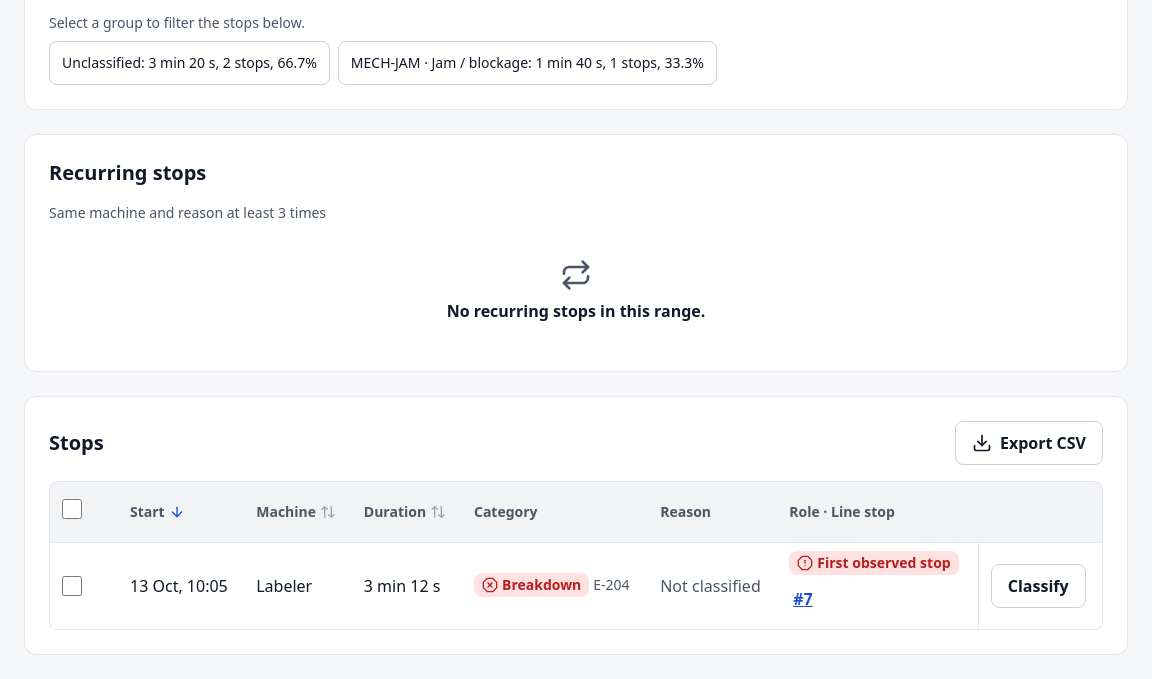
Test case: DowntimePage › lets supervisors select several stops and classify them together
(page scrolled)
Click the checkbox named "Select Labeler". click: (72, 586)
box: [62,576,82,596]
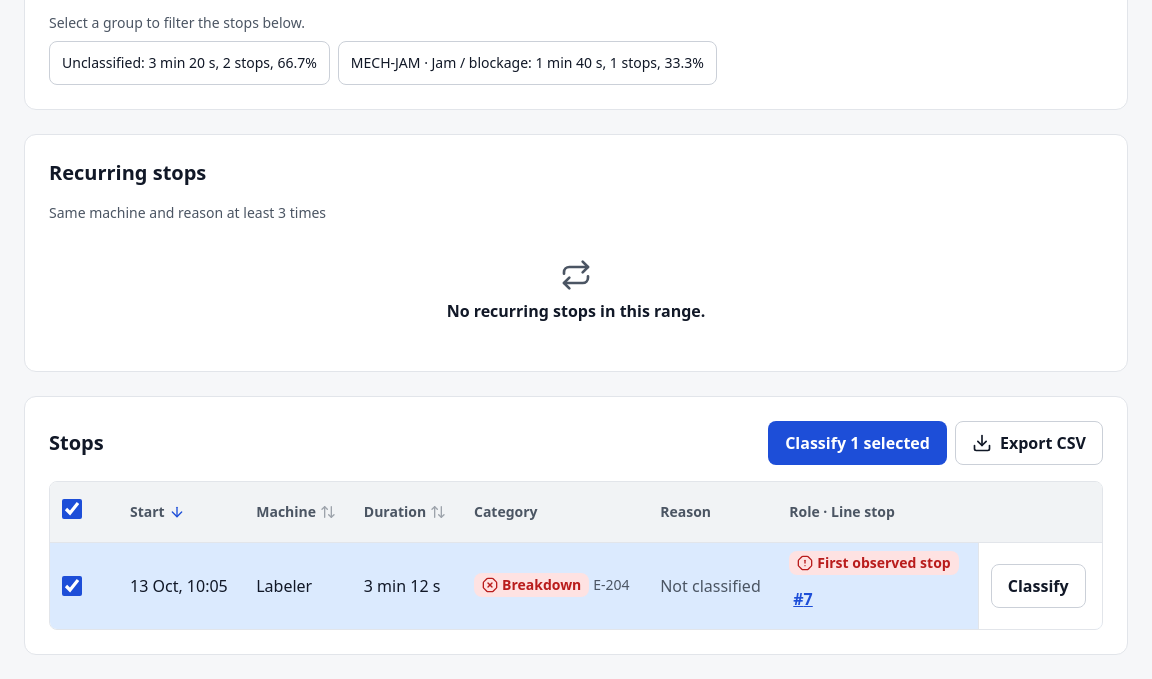
Expected: the button "Classify 1 selected" is shown, [768,421,947,465]
